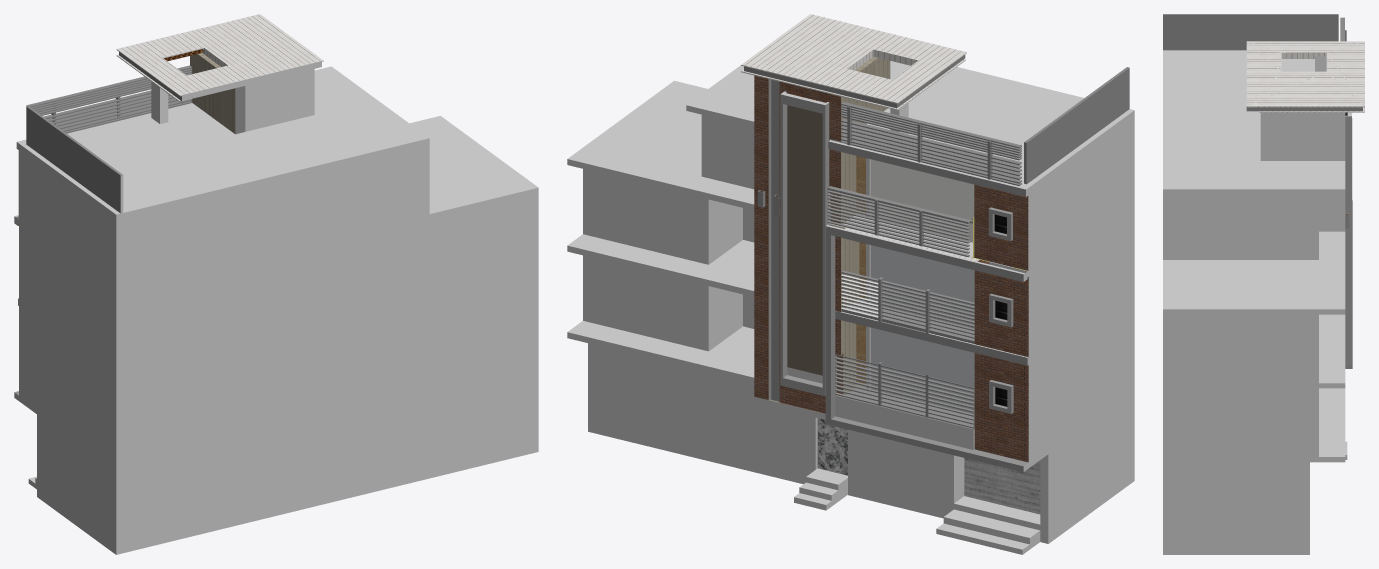
File: ele.glb
The picture shows the model from 3 angles, left to right: view 1: azimuth 30°, elevation 25°; view 2: azimuth 150°, elevation 25°; view 3: azimuth 270°, elevation 25°; orthographic projection. The views are drawn at different scales.
Parts seen in each view (by area): view 1: MeshChunk.025, MeshChunk.021, MeshChunk.011, MeshChunk.003; view 2: MeshChunk.025, MeshChunk.005, MeshChunk.008, MeshChunk.021, MeshChunk.006, MeshChunk.011, MeshChunk.022, MeshChunk.004, MeshChunk.020, MeshChunk.023, MeshChunk.003, MeshChunk.019 (+5 smaller); view 3: MeshChunk.025, MeshChunk.011, MeshChunk.021, MeshChunk.020, MeshChunk.002.
Part boxes in pixels (box(x1,y1,x2,y2)): MeshChunk.025: box(14, 48, 538, 554); MeshChunk.021: box(26, 52, 245, 213); MeshChunk.011: box(116, 14, 323, 95); MeshChunk.003: box(190, 53, 235, 133); MeshChunk.025: box(567, 61, 1134, 554); MeshChunk.005: box(754, 75, 1028, 462); MeshChunk.008: box(757, 186, 974, 429); MeshChunk.021: box(744, 54, 1129, 185); MeshChunk.006: box(768, 79, 1028, 472); MeshChunk.011: box(741, 14, 979, 261); MeshChunk.022: box(870, 245, 974, 413); MeshChunk.004: box(787, 105, 822, 375); MeshChunk.020: box(780, 94, 1013, 413); MeshChunk.023: box(870, 159, 974, 242); MeshChunk.003: box(834, 56, 890, 394); MeshChunk.019: box(964, 458, 1040, 514); MeshChunk.025: box(1163, 50, 1352, 554); MeshChunk.011: box(1246, 41, 1364, 106); MeshChunk.021: box(1163, 14, 1362, 111); MeshChunk.020: box(1345, 116, 1351, 364); MeshChunk.002: box(1246, 53, 1364, 112).
Bounding box in the file's own units: 12.8 × 11.58 × 5.7.
Materials: 26 (14 with a texture image).
